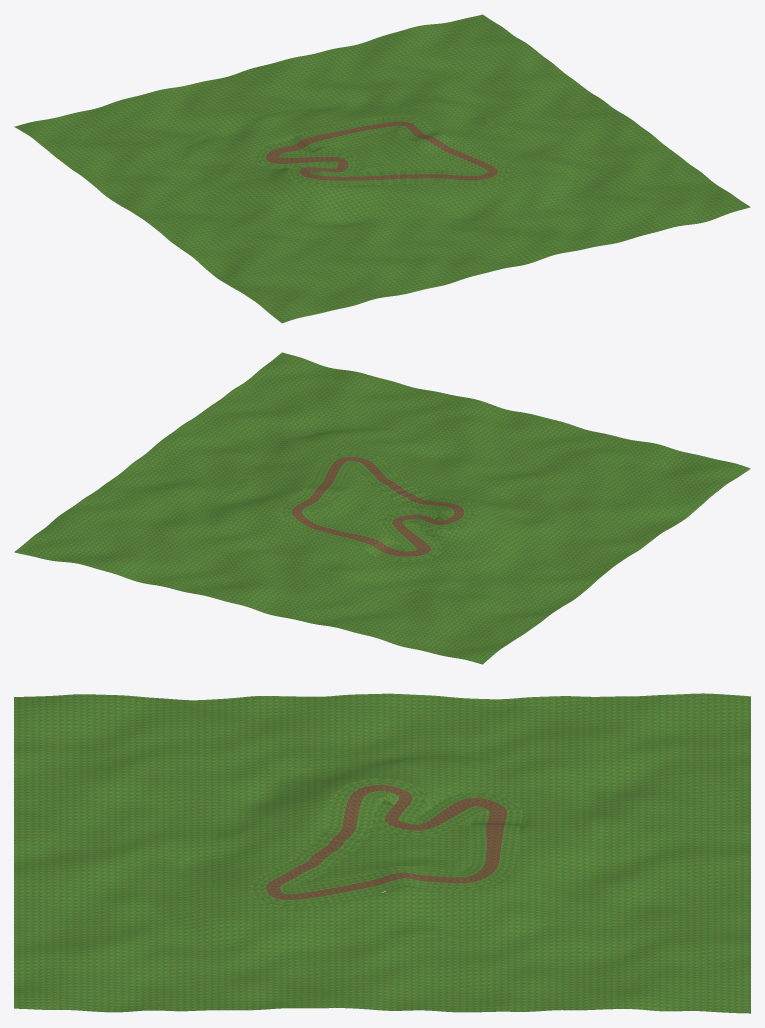
Rendered from dirt-run.glb.
The picture shows the model from 3 angles, top to bottom: view 1: azimuth 30°, elevation 25°; view 2: azimuth 150°, elevation 25°; view 3: azimuth 270°, elevation 25°; orthographic projection. The views are drawn at different scales.
Parts seen in each view (by area): view 1: ground, shoulder_left, road, shoulder_right; view 2: ground, shoulder_left, road, shoulder_right; view 3: ground, shoulder_left, road, shoulder_right.
Part boxes in pixels (<box>): ground: <box>14,14,750,323</box>; shoulder_left: <box>254,117,509,185</box>; road: <box>266,121,498,180</box>; shoulder_right: <box>279,125,488,176</box>; ground: <box>14,352,750,664</box>; shoulder_left: <box>280,452,475,561</box>; road: <box>291,457,464,556</box>; shoulder_right: <box>301,461,454,551</box>; ground: <box>14,693,750,1013</box>; shoulder_left: <box>250,778,523,907</box>; road: <box>266,785,506,899</box>; shoulder_right: <box>279,790,489,894</box>.
Bounding box in the file's own units: 648 × 19.55 × 642.
3 materials, 3 textured.
